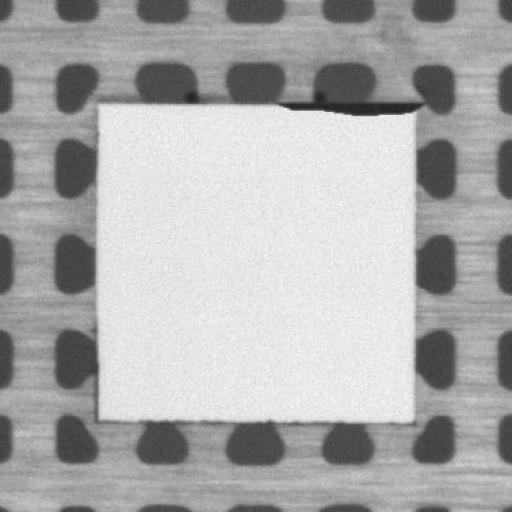DIE_BROKEN: (287, 93, 427, 118)
